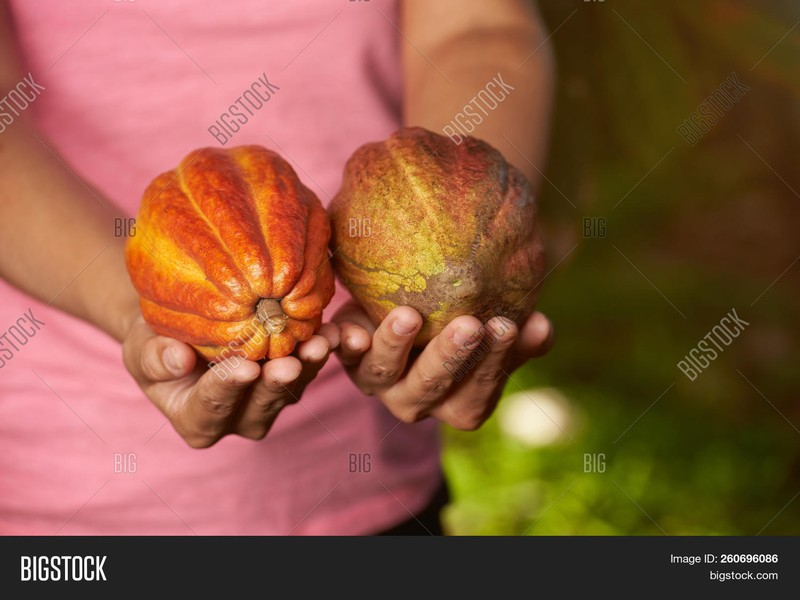Cacaopod: (330, 125, 547, 343), (120, 146, 329, 360)
